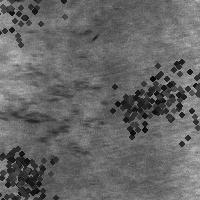rolled-in_scale: (1, 62, 103, 162), (116, 52, 200, 136), (146, 36, 200, 144), (0, 132, 81, 200), (93, 70, 167, 144), (0, 0, 64, 51), (0, 136, 46, 196), (27, 21, 102, 56)
